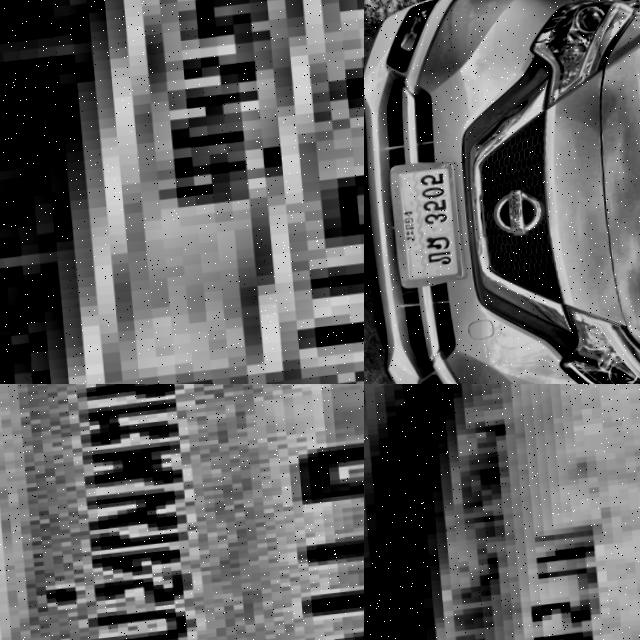license-plate: (0, 0, 364, 384), (0, 384, 364, 640), (366, 384, 640, 640), (377, 158, 463, 297)
